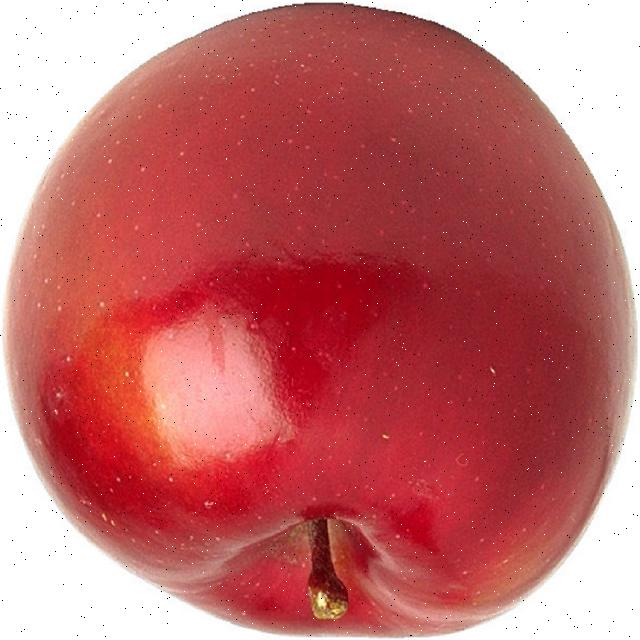Apel: (1, 3, 638, 640)
